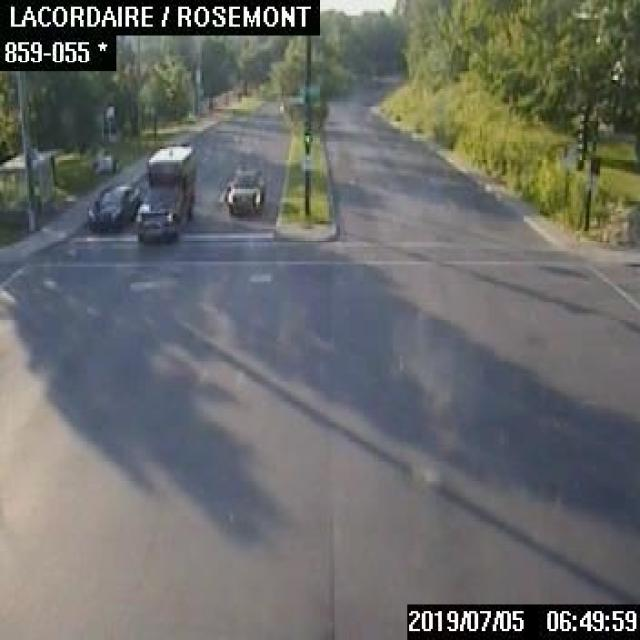vehicle: (136, 145, 192, 239), (86, 182, 140, 230), (224, 168, 263, 212)
